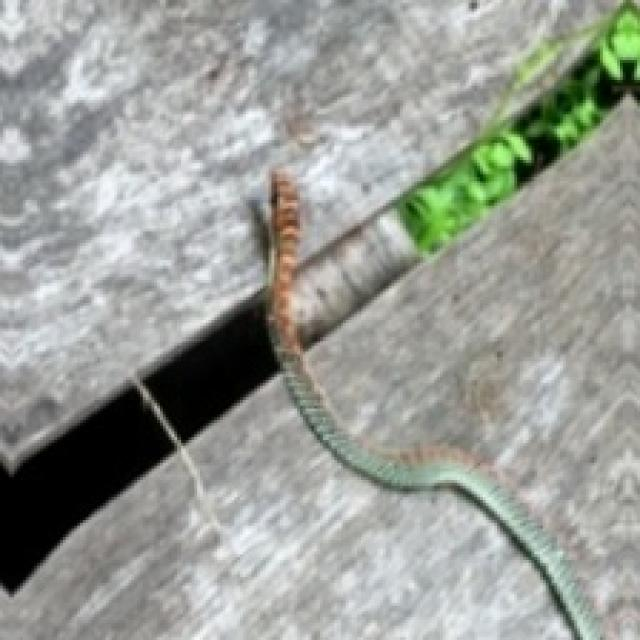paradise tree snake: (268, 171, 604, 639)
